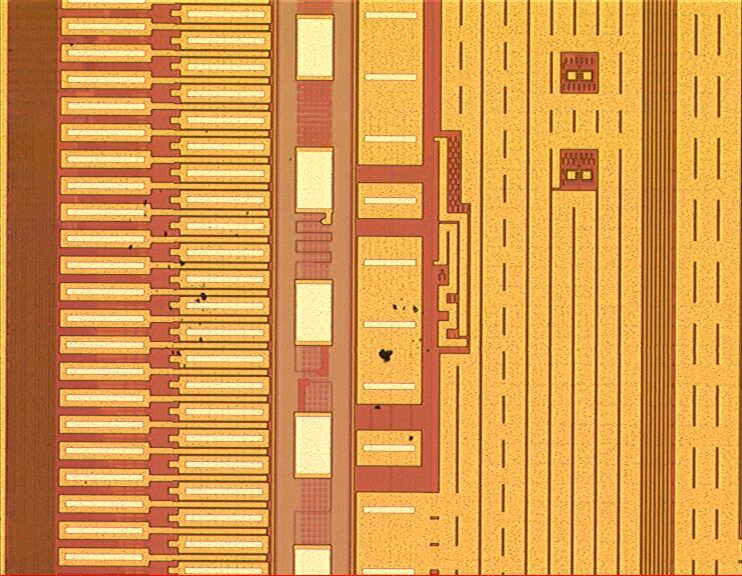PO CONTAMINATION: (120, 193, 435, 446)
